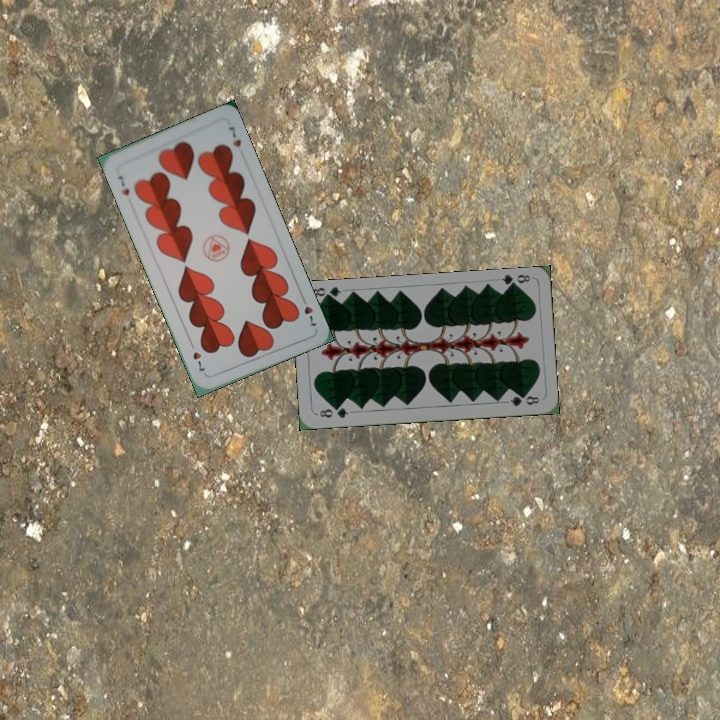G8: (498, 270, 533, 291), (315, 403, 351, 420)
H7: (297, 292, 319, 330), (114, 172, 132, 198)
